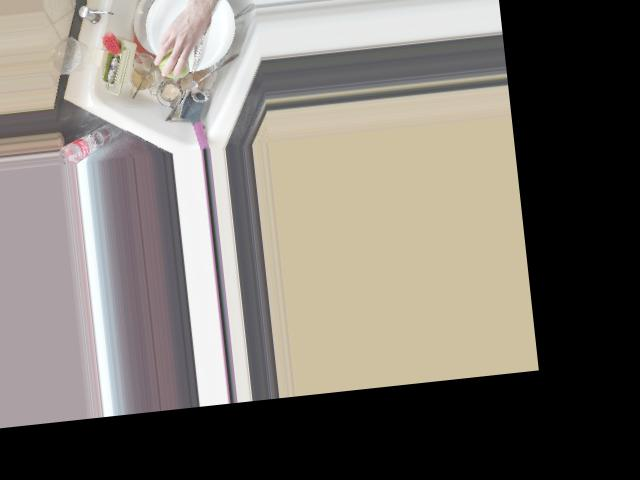apple: (157, 45, 192, 80)
